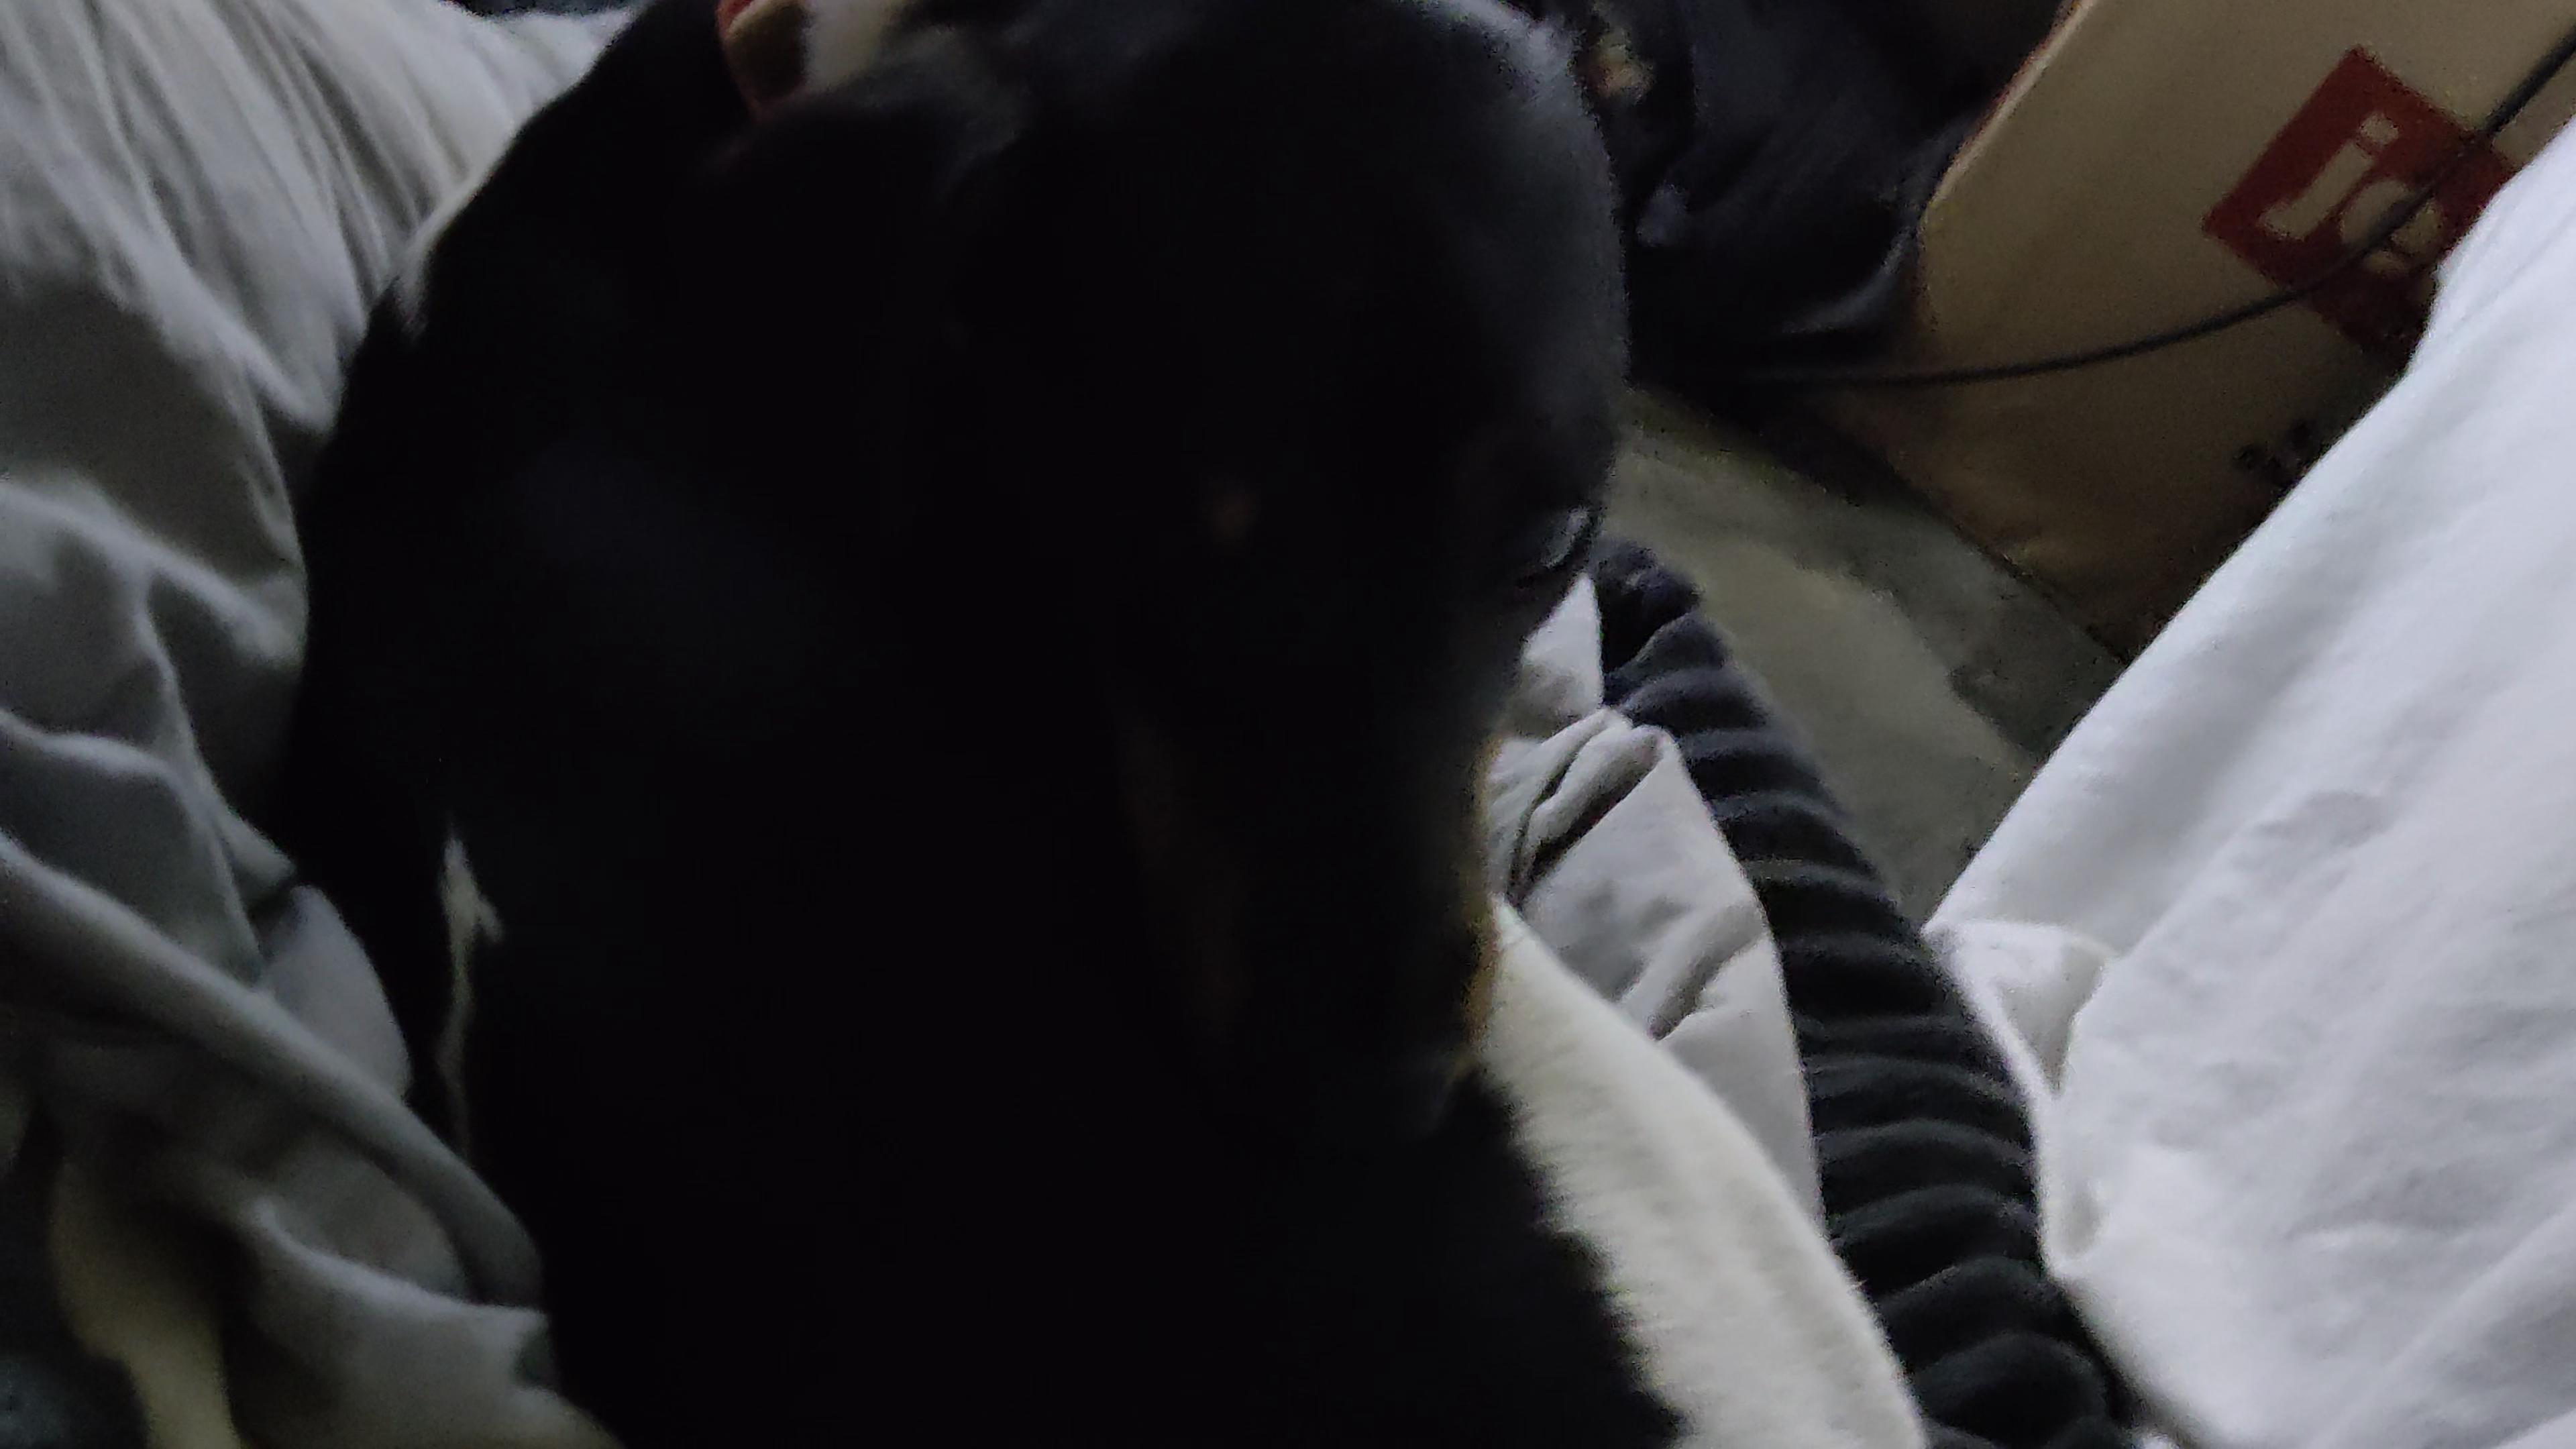Dog: (264, 0, 1948, 1449)
